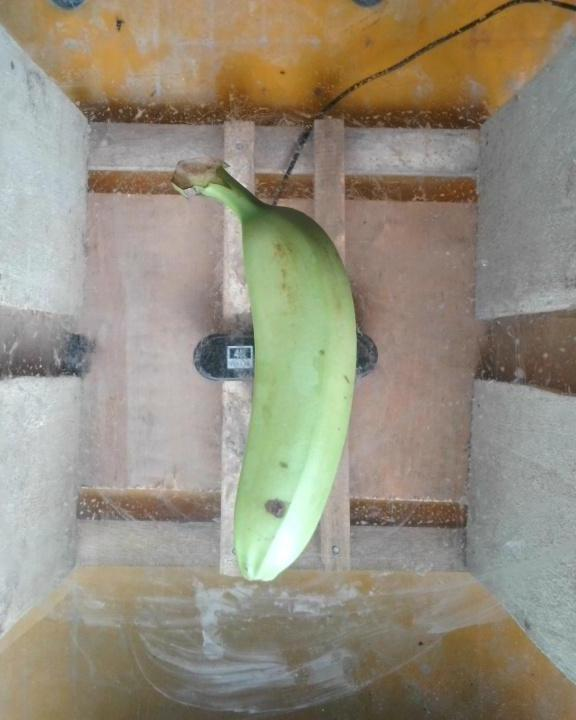CLASS B: (155, 146, 385, 588)
Class A: (259, 487, 299, 527), (271, 451, 299, 478)
